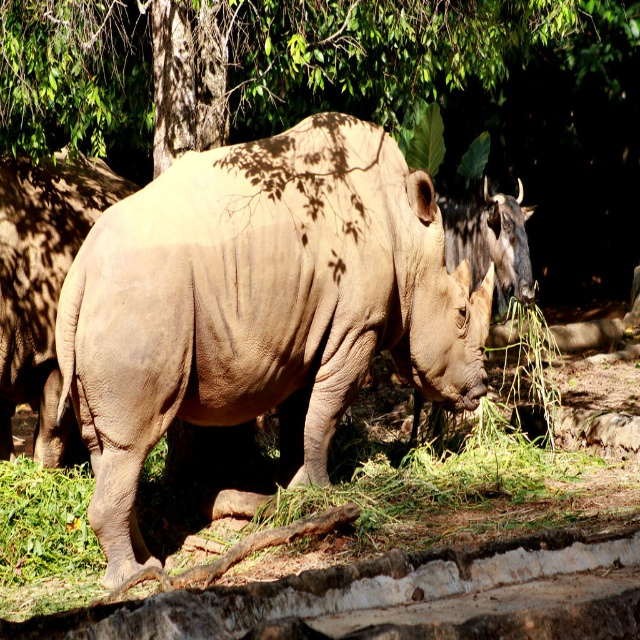Rhinoceros: (51, 100, 497, 599)
